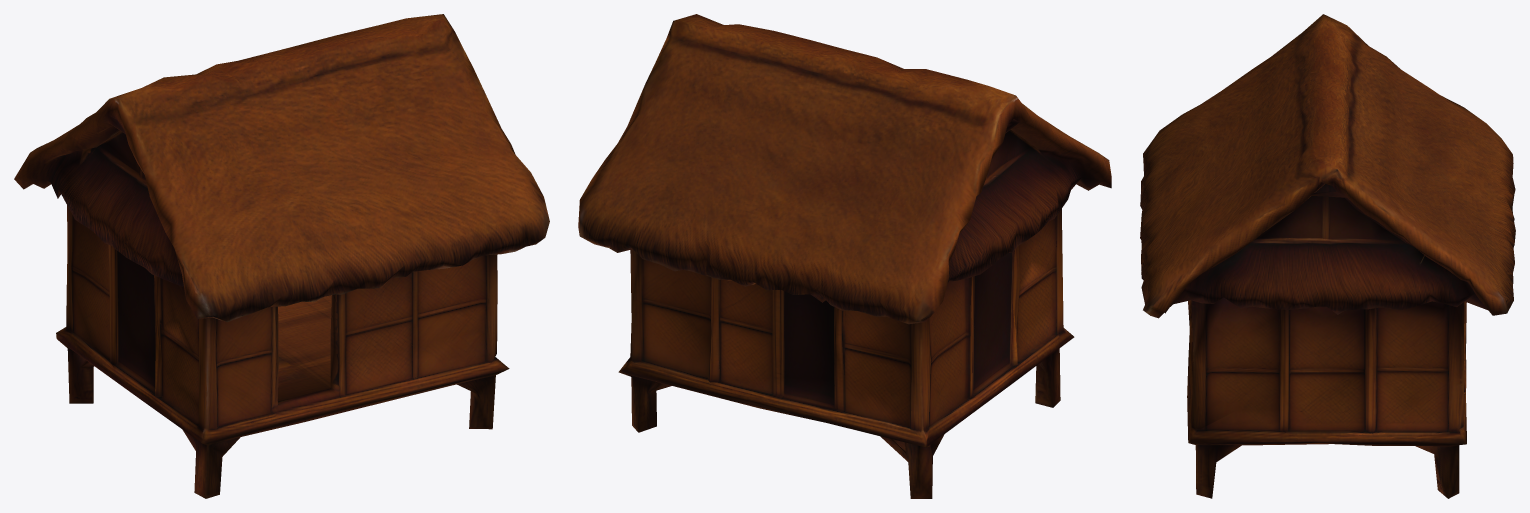
Rendered from Bahay Kubo.glb.
3 renders of one model, left to right at view 1: azimuth 30°, elevation 25°; view 2: azimuth 150°, elevation 25°; view 3: azimuth 270°, elevation 25°, orthographic. The views are drawn at different scales.
Size of the model in its own units: 1.81 by 1.73 by 1.72.
Materials: 1 (1 with a texture image).
